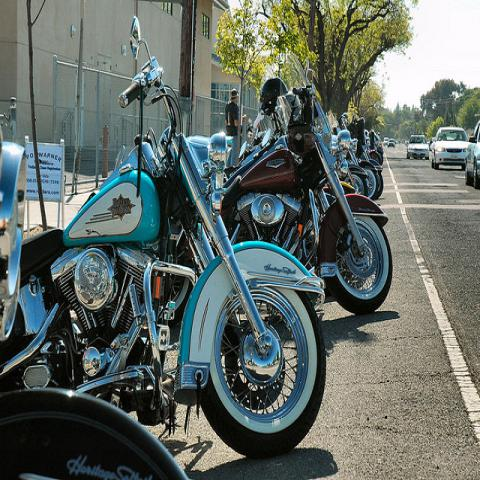car: (429, 126, 469, 170), (464, 120, 480, 192), (406, 134, 430, 160), (383, 136, 389, 148), (388, 139, 395, 148), (428, 138, 435, 146)
motorcycle: (1, 55, 334, 459), (228, 58, 392, 313), (0, 385, 194, 479), (341, 116, 379, 200), (349, 115, 383, 198), (330, 130, 368, 198), (364, 128, 383, 166)
